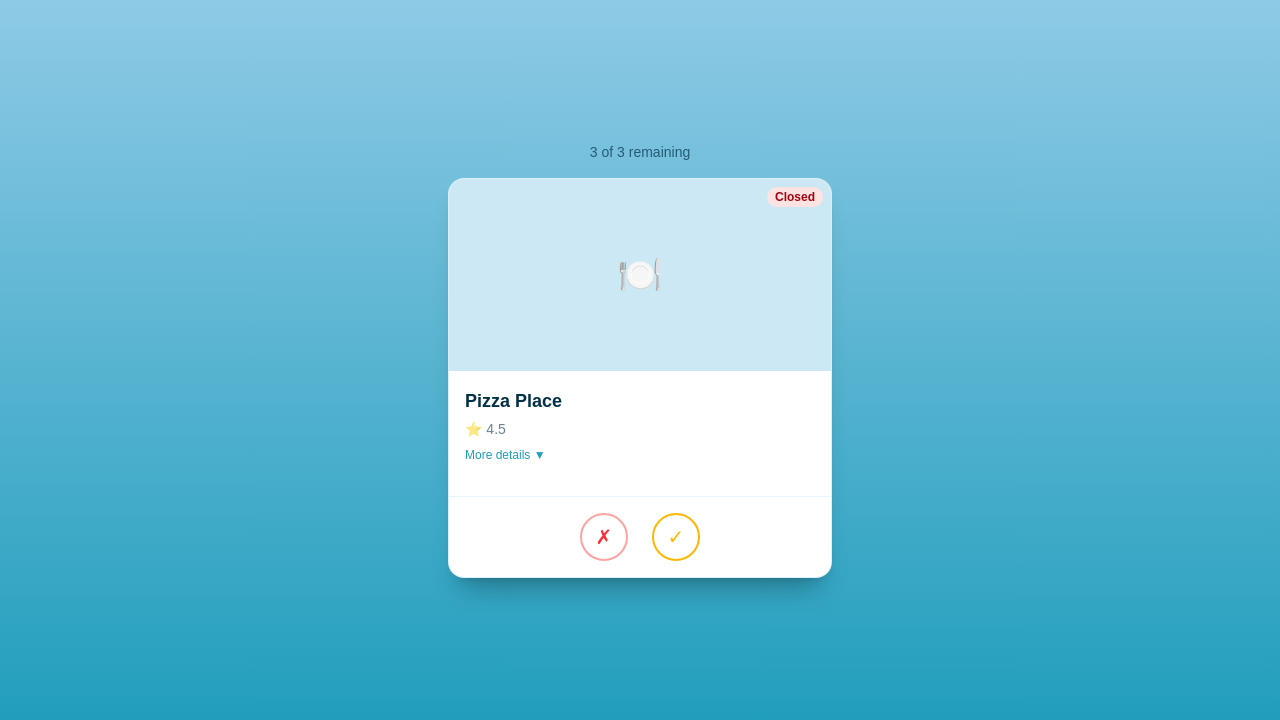
it: SwipeDeck › shows error and does not advance when Firestore write fails
What coordinates should you click on to do the following:
click the button with test id "accept-button"
I would click on:
 (676, 537)
Its box is x1=652 y1=513 x2=700 y2=561.
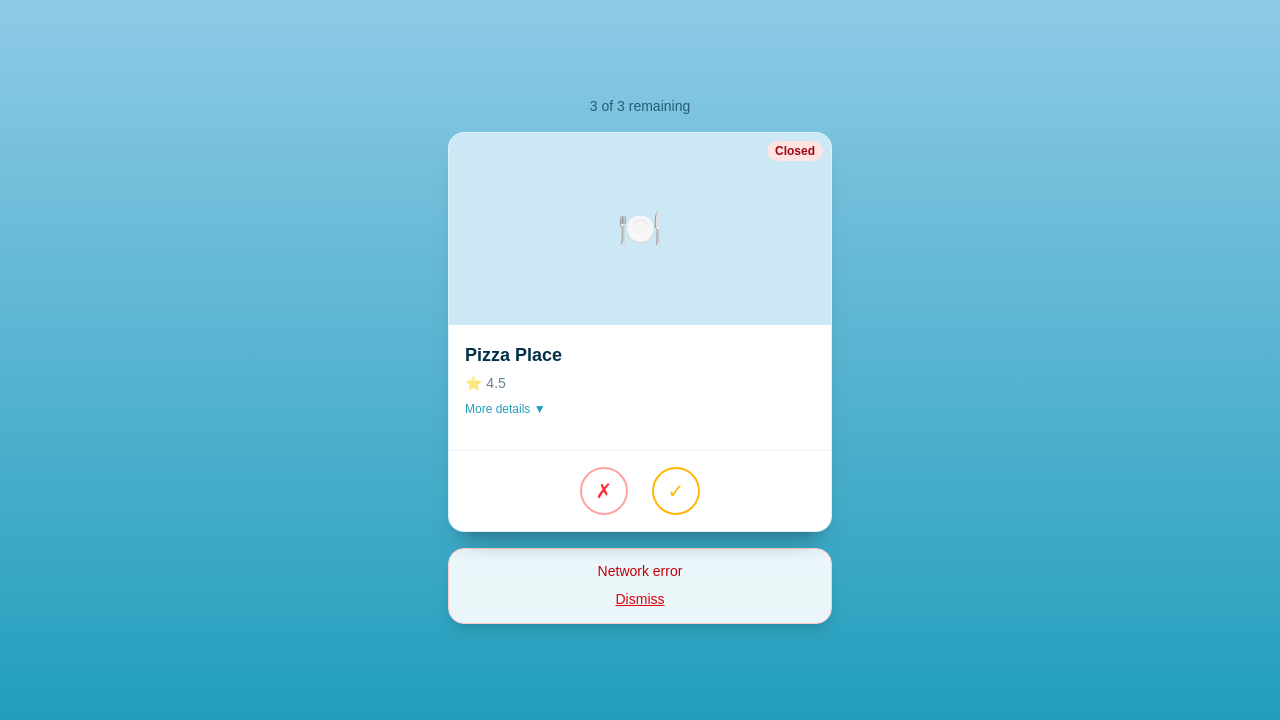
Check: the text with test id "progress-counter" reads "3 of 3 remaining", box x1=590 y1=98 x2=690 y2=114
Check: the message shows "Network error", box x1=598 y1=563 x2=682 y2=579
